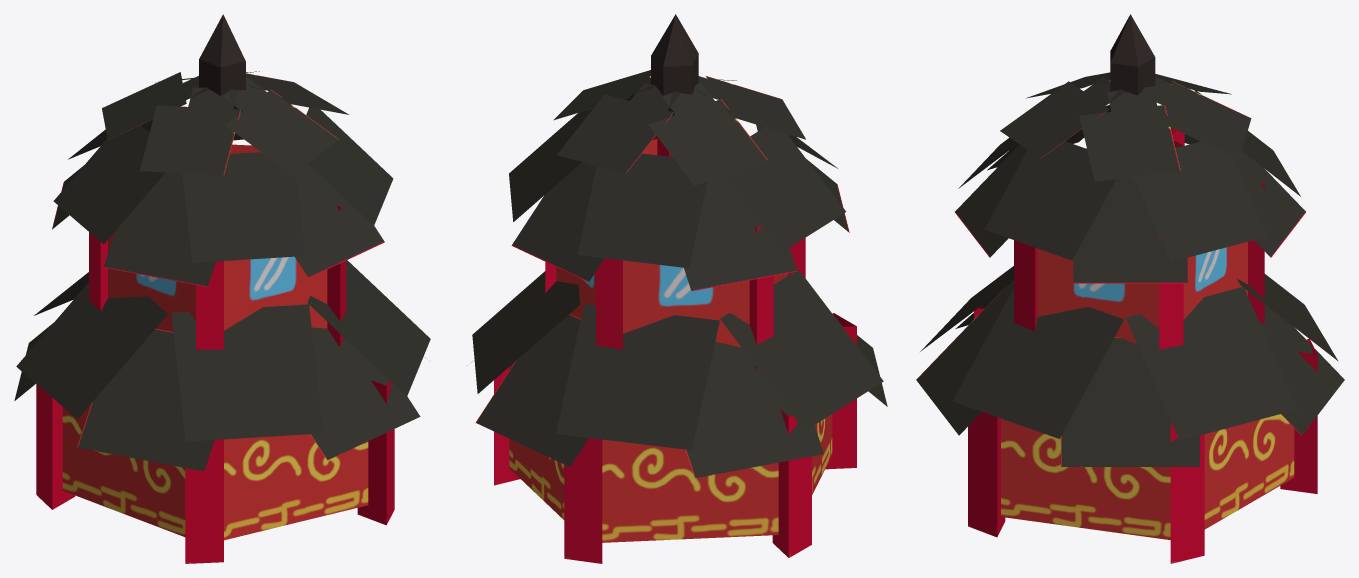
File: house.fbx
3 views of the same model, side by side, from view 1: azimuth 30°, elevation 25°; view 2: azimuth 150°, elevation 25°; view 3: azimuth 270°, elevation 25° (orthographic).
Visible parts, largest first — view 1: Cylinder.001; view 2: Cylinder.001; view 3: Cylinder.001.
Boxes of the visible parts, x1,y1,x2,y2 form: Cylinder.001: (14, 14, 430, 563); Cylinder.001: (471, 14, 887, 563); Cylinder.001: (916, 14, 1344, 563).
Bounding box in the file's own units: 237 × 303 × 250.
